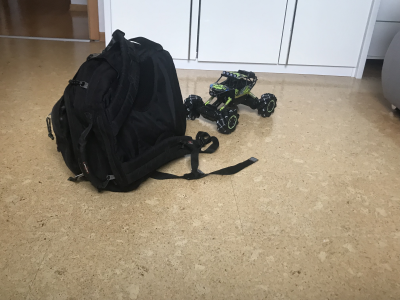remote control car: (182, 64, 278, 135)
